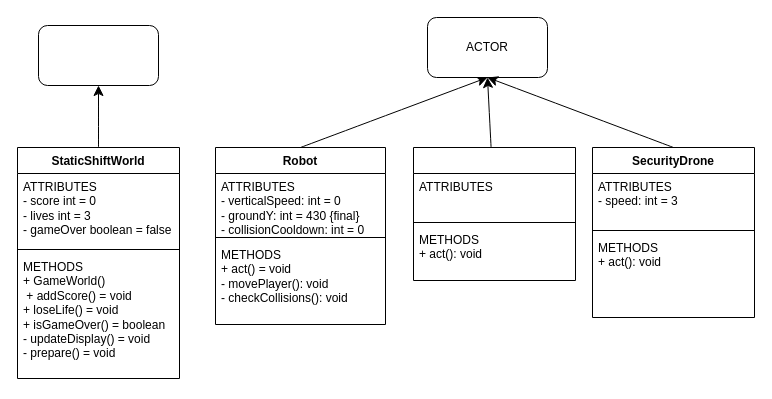
The diagram is 772 pixels wide and 399 high, and some of its shapes have lost their labels. The shapes that lost their labels are listed below. From the top down, each one's box as (x1, y1, x2, y2) in pixels, then its label:
(38, 24, 158, 86): WORLD
(412, 146, 576, 280): Battery
